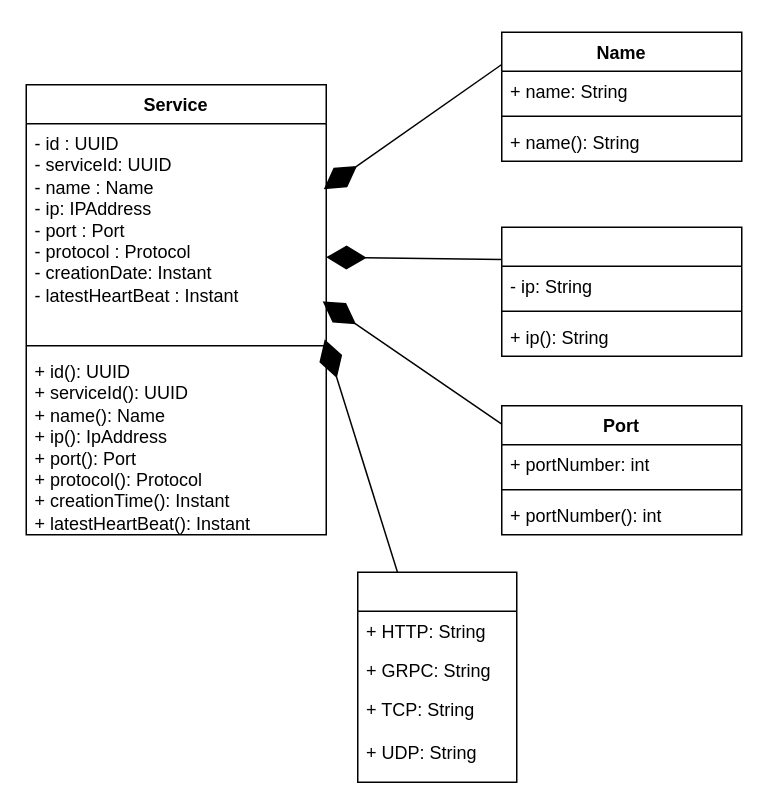
Image size: 768x812. Some labels were removed from this diagram. Here are the shapes that lost their labels. From the top down, the box of each, then its label:
(500, 226, 742, 356): IPAddress
(356, 571, 517, 782): Protocol
